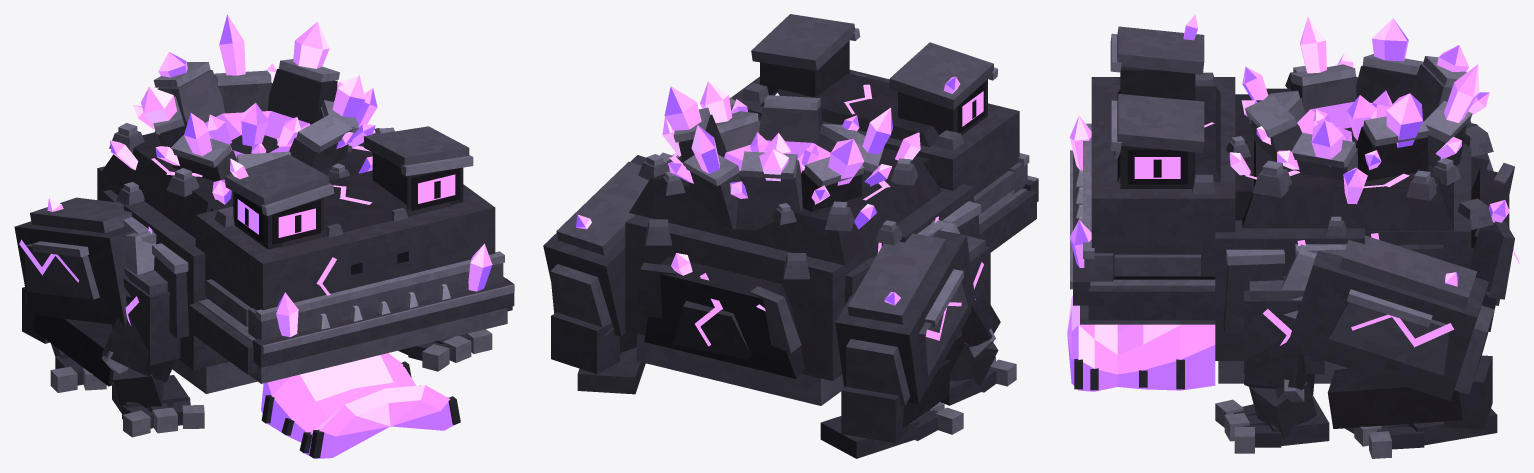
File: fmob_shard_toad.glb
3 renders of one model, left to right at view 1: azimuth 30°, elevation 25°; view 2: azimuth 150°, elevation 25°; view 3: azimuth 270°, elevation 25°, orthographic. The views are drawn at different scales.
Parts seen in each view (by area): view 1: head, fmob_shard_toad, leg_br, jaw, weak_throat, leg_fr, glow_crater, glow_eyes, leg_fl, glow_shards; view 2: fmob_shard_toad, head, leg_br, leg_bl, glow_crater, leg_fr, jaw, glow_shards, glow_eyes, glow_cracks; view 3: fmob_shard_toad, leg_bl, head, leg_fl, glow_crater, weak_throat, jaw, glow_shards, glow_eyes.
Part boxes in pixels (bbox=[...]): head: bbox=[195, 126, 504, 340]; fmob_shard_toad: bbox=[97, 59, 394, 393]; leg_br: bbox=[14, 197, 155, 392]; jaw: bbox=[189, 243, 514, 383]; weak_throat: bbox=[261, 353, 460, 458]; leg_fr: bbox=[101, 267, 204, 437]; glow_crater: bbox=[133, 14, 375, 165]; glow_eyes: bbox=[230, 158, 455, 295]; leg_fl: bbox=[398, 329, 492, 371]; glow_shards: bbox=[110, 88, 377, 204]; fmob_shard_toad: bbox=[625, 95, 981, 405]; head: bbox=[731, 14, 1029, 214]; leg_br: bbox=[820, 220, 975, 458]; leg_bl: bbox=[543, 152, 671, 394]; glow_crater: bbox=[664, 81, 892, 204]; leg_fr: bbox=[941, 236, 1016, 405]; jaw: bbox=[978, 175, 1038, 252]; glow_shards: bbox=[662, 117, 920, 311]; glow_eyes: bbox=[844, 76, 983, 126]; glow_cracks: bbox=[669, 114, 938, 346]; fmob_shard_toad: bbox=[1215, 54, 1514, 383]; leg_bl: bbox=[1281, 235, 1497, 458]; head: bbox=[1083, 26, 1253, 281]; leg_fl: bbox=[1215, 276, 1329, 453]; glow_crater: bbox=[1241, 17, 1489, 169]; weak_throat: bbox=[1067, 295, 1215, 391]; jaw: bbox=[1069, 115, 1215, 324]; glow_shards: bbox=[1229, 67, 1509, 222]; glow_eyes: bbox=[1134, 14, 1214, 178].
Bounding box in the file's own units: 1.64 × 1.2 × 1.57.
Materials: 17 (8 with a texture image).
